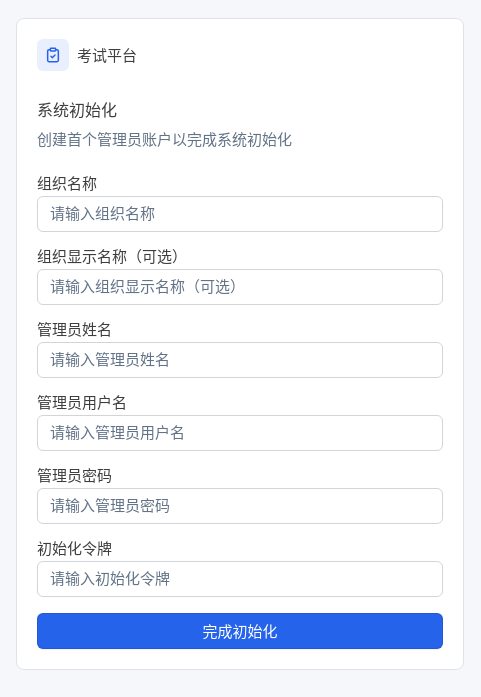
LaunchpadPage › shows field validation errors and does not submit when fields are empty
This screenshot has width=481, height=697.
Check: the field labelled "组织名称" is shown, box [37, 196, 443, 232]
Click the button "完成初始化" at (240, 631), box [37, 613, 443, 649]
(page scrolled)
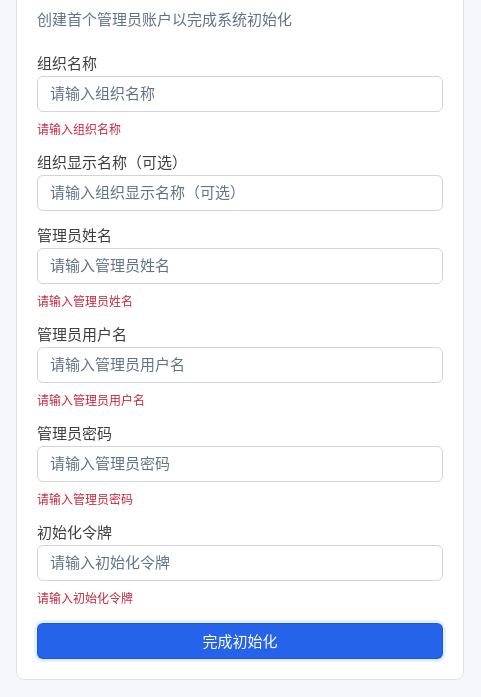
Check: the text "请输入组织名称" is shown, box [37, 123, 121, 137]
Check: the text "请输入管理员姓名" is shown, box [37, 295, 133, 309]
Check: the text "请输入管理员用户名" is shown, box [37, 394, 145, 408]
